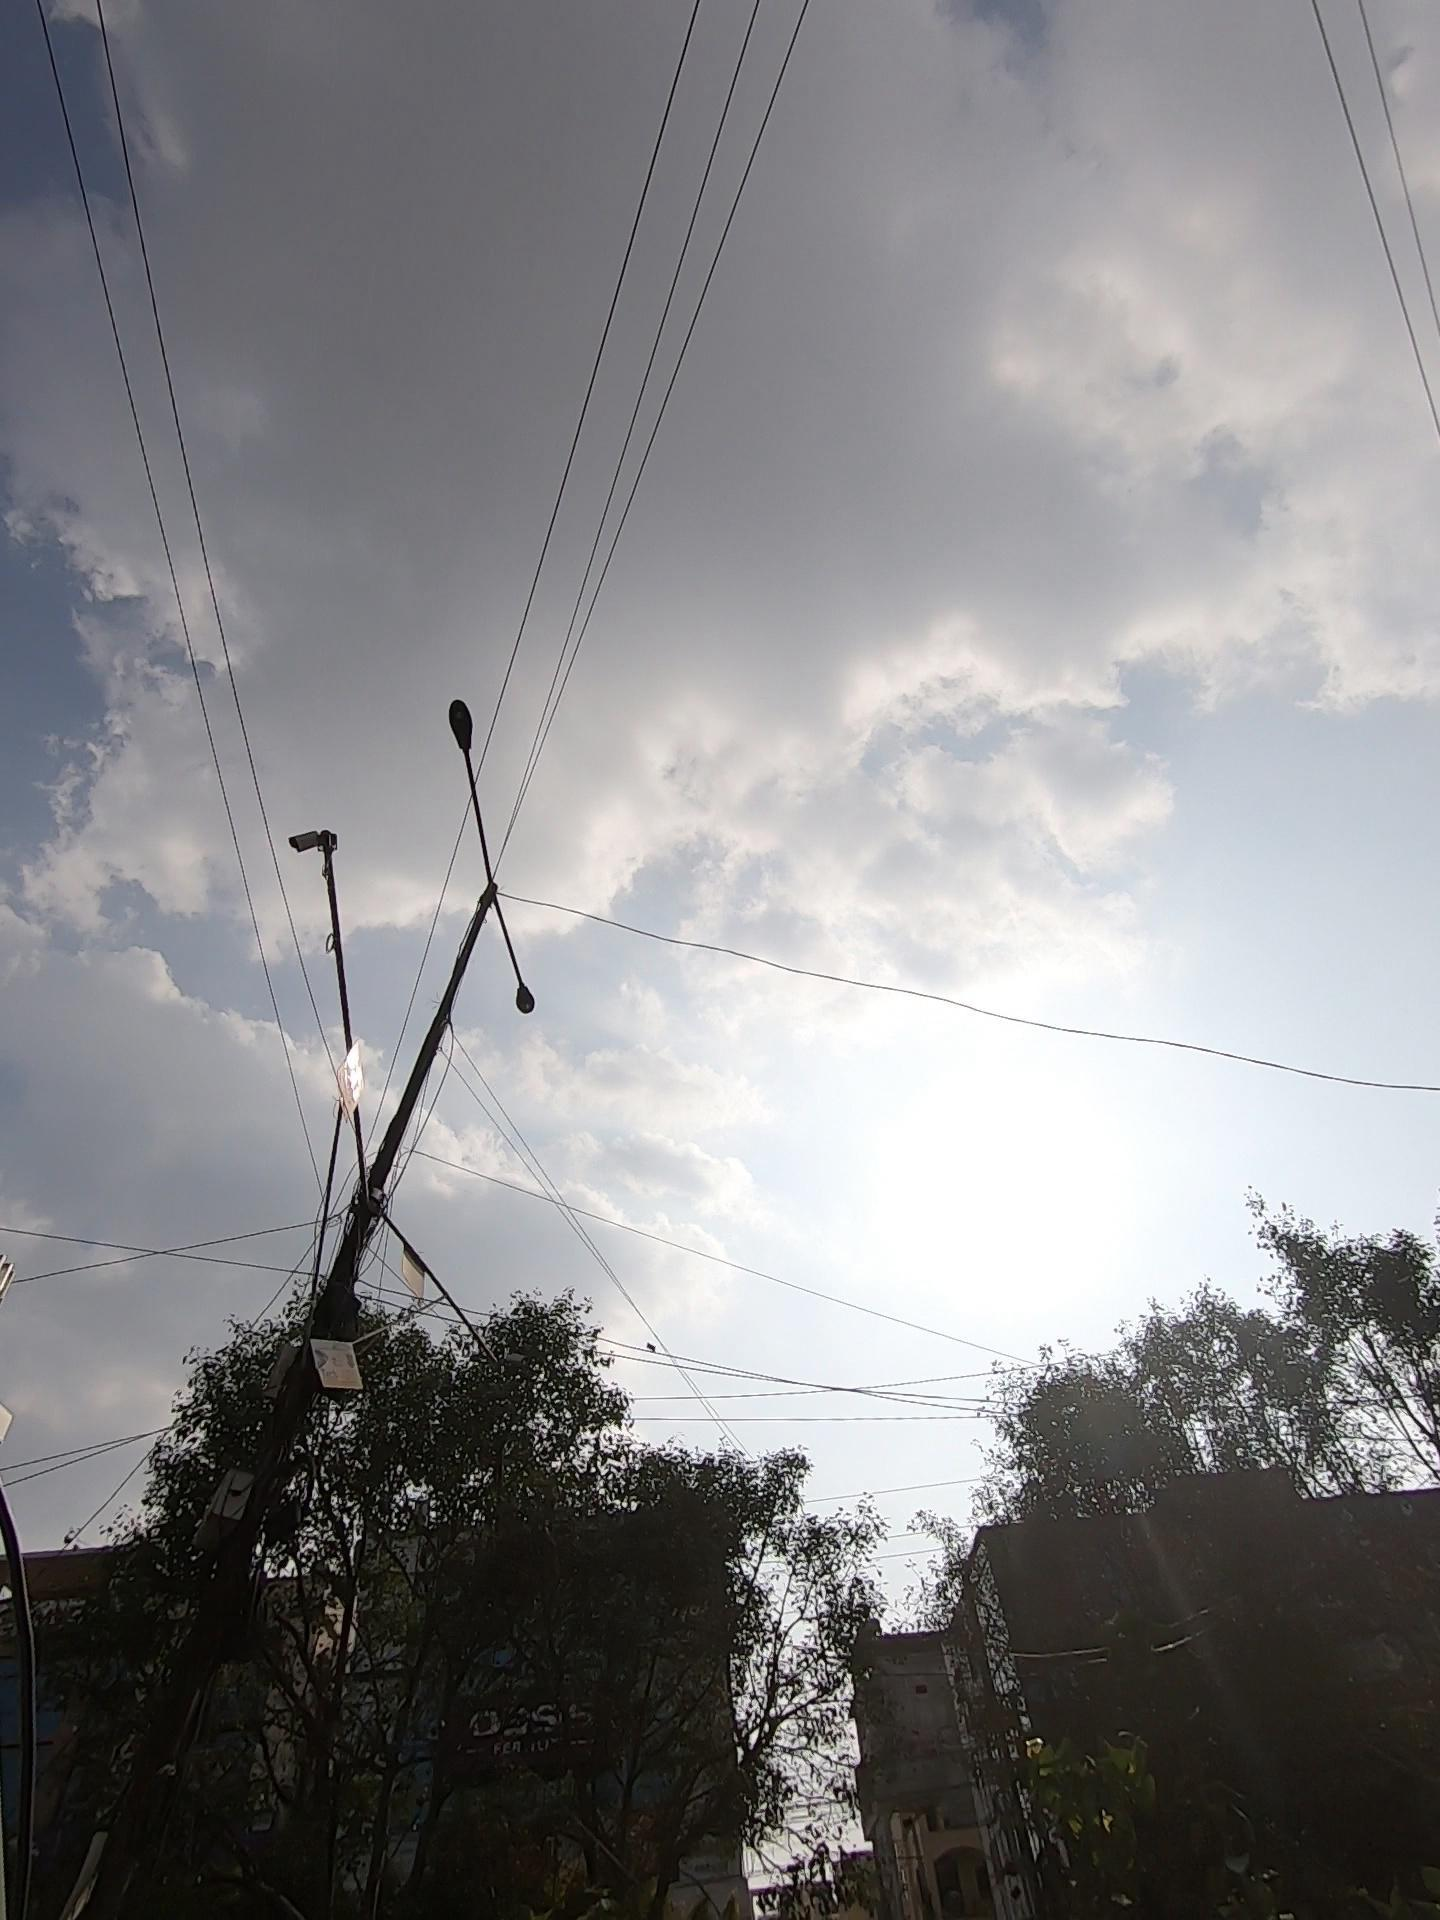off: (375, 701, 652, 1040)
